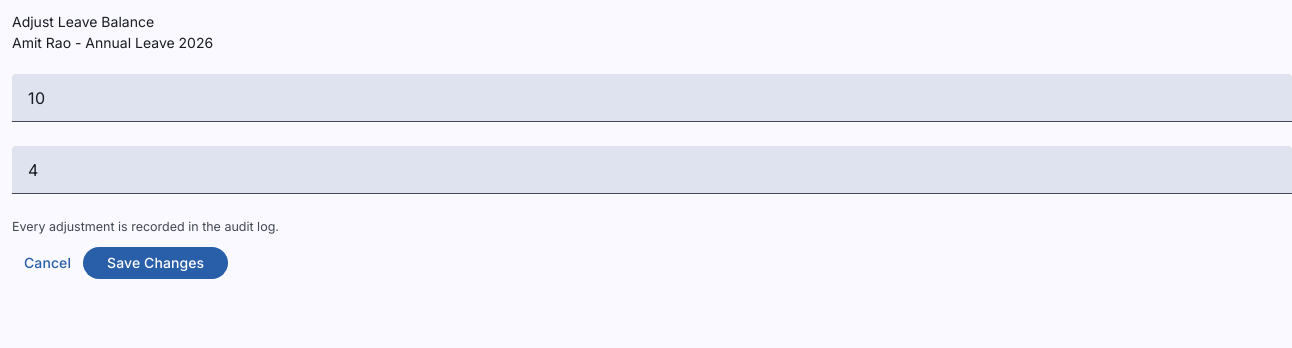
Test: AdjustBalanceDialogComponent › shows the server's refusal inline and stays open
Replace the text in the 1st field named "entitlement" with "12" at (652, 98), box [28,86,1276,110]
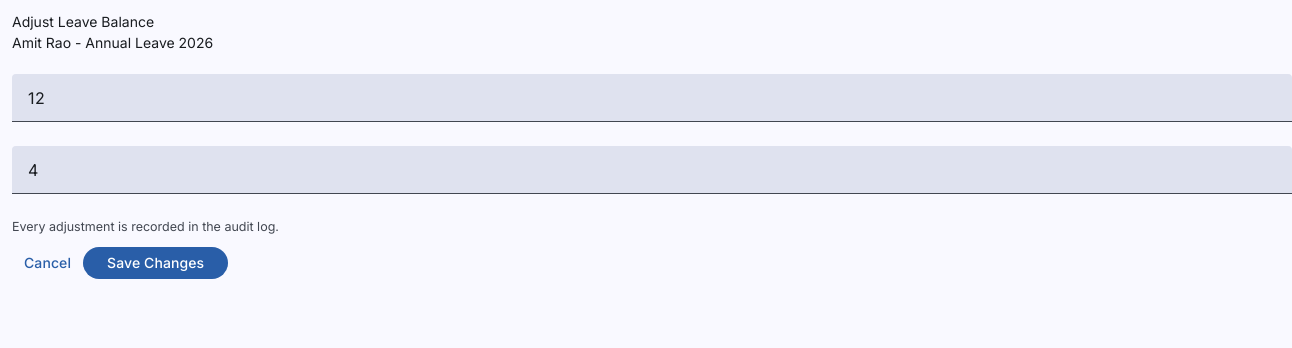
Submit the form
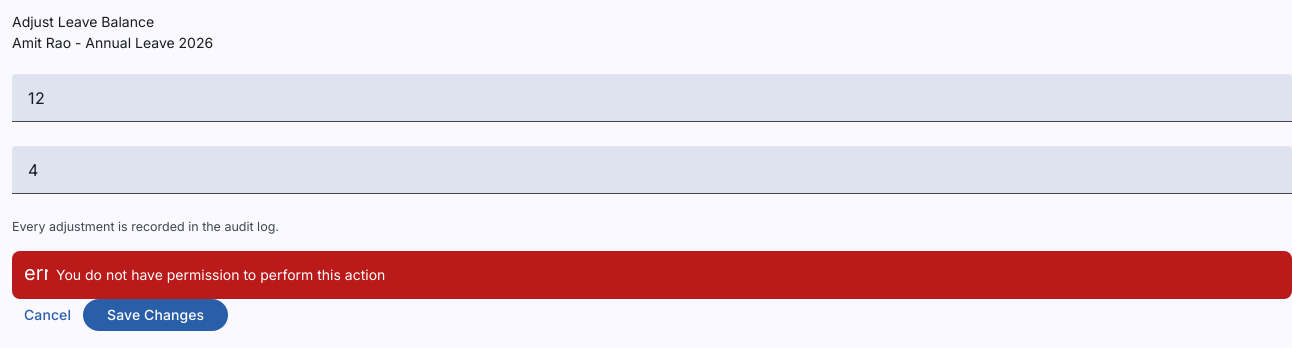
Check: the submit button is enabled, box [83,299,228,331]
Check: the text "You do not have permission to perform this action" is shown, box [56,266,385,283]
